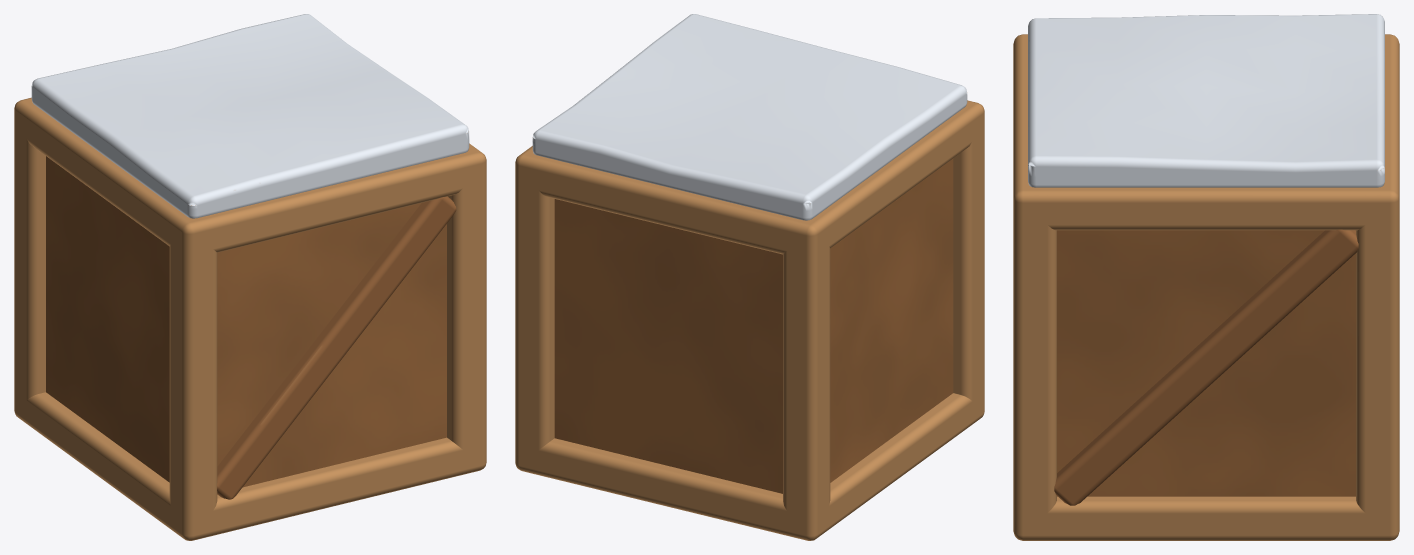
The model's file is crate.glb.
The picture shows the model from 3 angles, left to right: view 1: azimuth 30°, elevation 25°; view 2: azimuth 150°, elevation 25°; view 3: azimuth 270°, elevation 25°; orthographic projection. The views are drawn at different scales.
Parts seen in each view (by area): view 1: crate_core; view 2: crate_core; view 3: crate_core.
Part boxes in pixels (<box>): crate_core: <box>14,14,486,540</box>; crate_core: <box>515,14,984,540</box>; crate_core: <box>1013,14,1399,540</box>.
Bounding box in the file's own units: 0.8 × 0.8661 × 0.8.
Materials: 1 (1 with a texture image).
